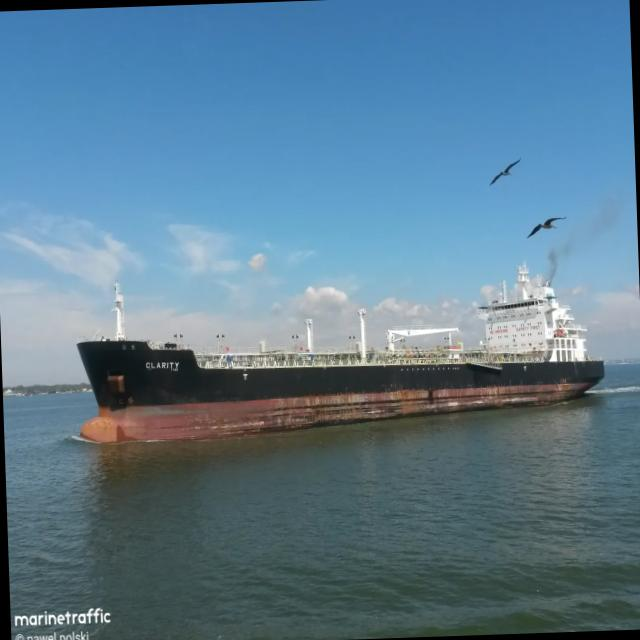Tanker: (77, 263, 604, 442)
